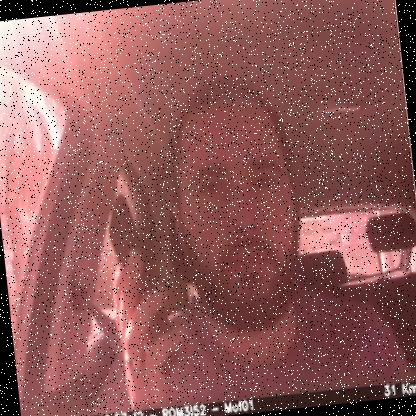phone: (95, 194, 180, 372)
